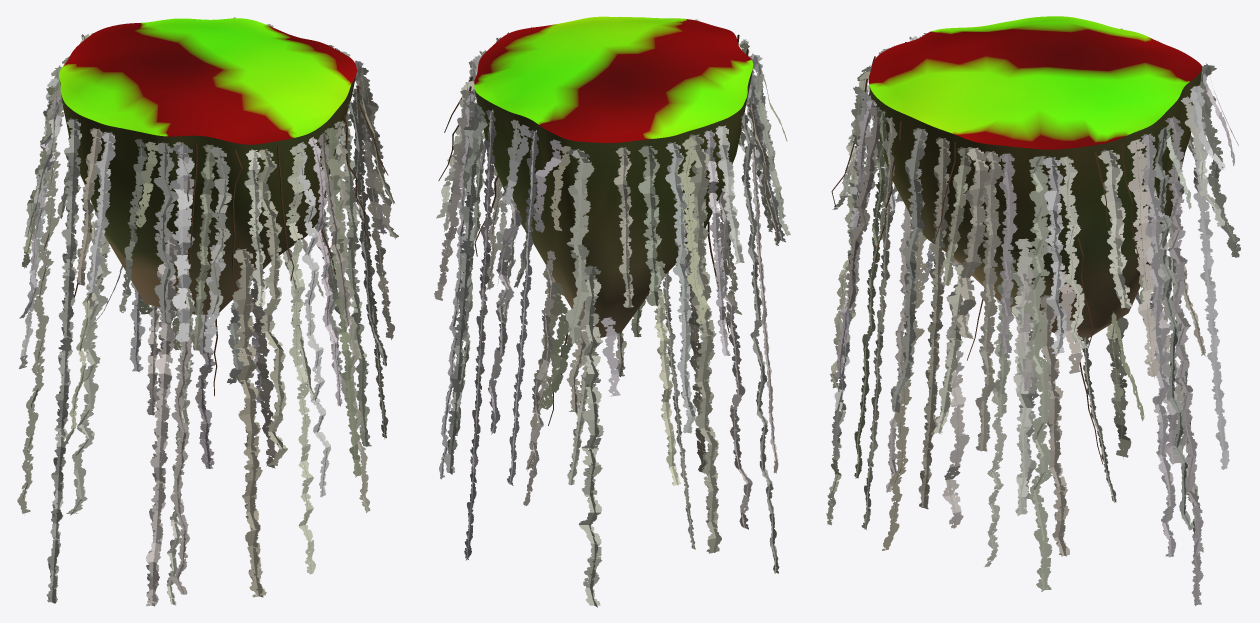
The model's file is SM_H01_Floater04.fbx.
3 views of the same model, side by side, from view 1: azimuth 30°, elevation 25°; view 2: azimuth 150°, elevation 25°; view 3: azimuth 270°, elevation 25° (orthographic). The views are drawn at different scales.
Visible parts, largest first — view 1: SM_H01_Floater04_Ivy, SM_H01_Floater04; view 2: SM_H01_Floater04_Ivy, SM_H01_Floater04; view 3: SM_H01_Floater04_Ivy, SM_H01_Floater04.
Part boxes in pixels (<box>): SM_H01_Floater04_Ivy: <box>17,17,398,606</box>; SM_H01_Floater04: <box>59,18,356,314</box>; SM_H01_Floater04_Ivy: <box>434,19,790,607</box>; SM_H01_Floater04: <box>474,16,753,337</box>; SM_H01_Floater04_Ivy: <box>826,28,1240,605</box>; SM_H01_Floater04: <box>868,16,1201,340</box>.
Size of the model in its own units: 20.84 by 30.12 by 21.7.
